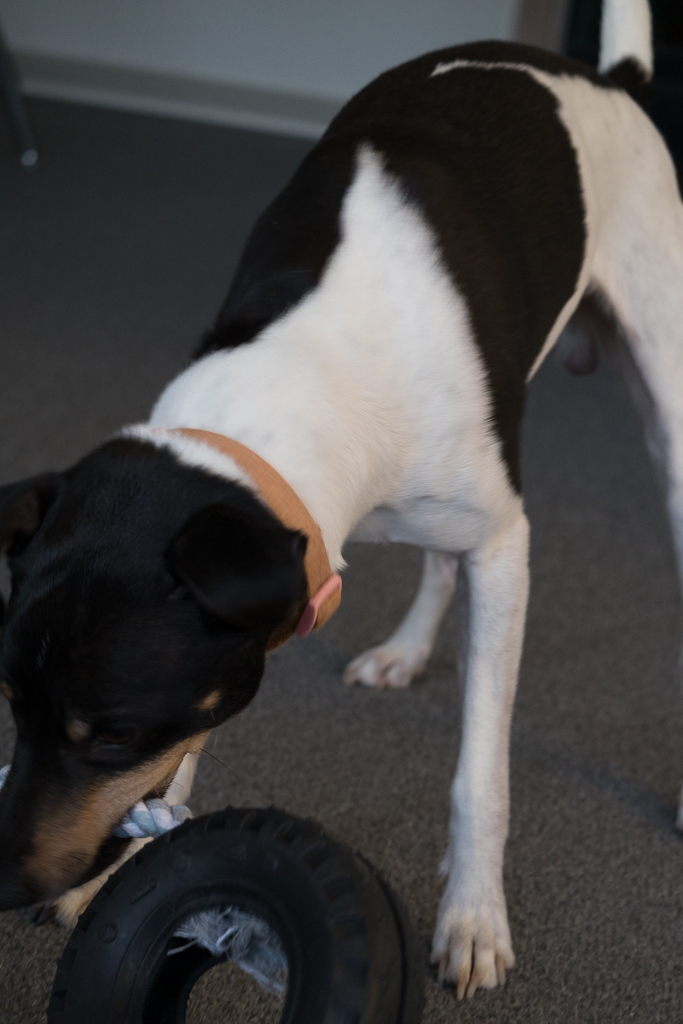Dog: (0, 0, 683, 1002)
